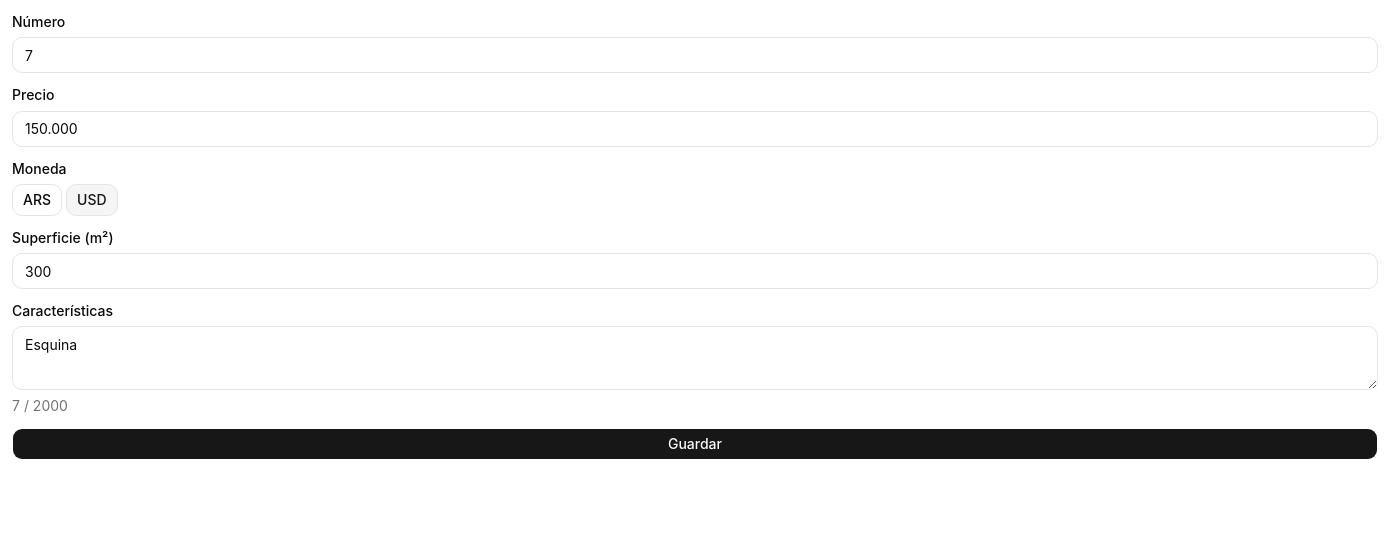
LoteEditForm › loads the lote and saves the typed values
expect the field labelled "Precio" holds "150.000": met, box [12,110,1378,146]
expect the field labelled "Superficie (m²)" holds "300": met, box [12,253,1378,289]
Replace the text in the field labelled "Número" with "12" at (695, 55), box [12,37,1378,73]
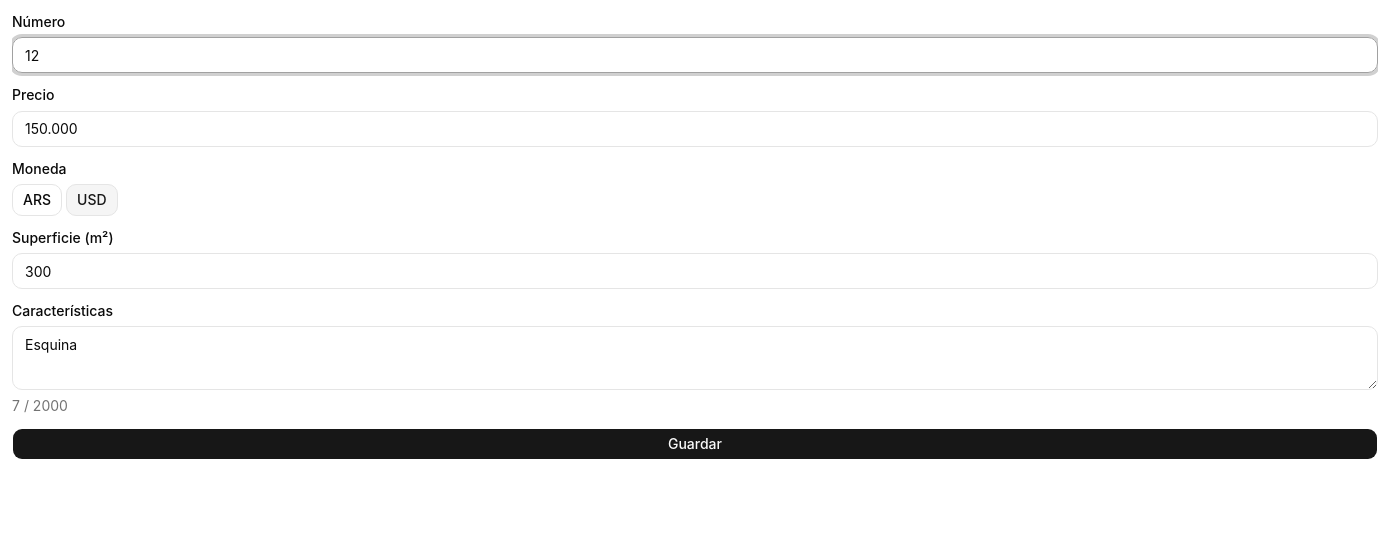
Replace the text in the field labelled "Precio" with "200000" at (695, 128), box [12,110,1378,146]
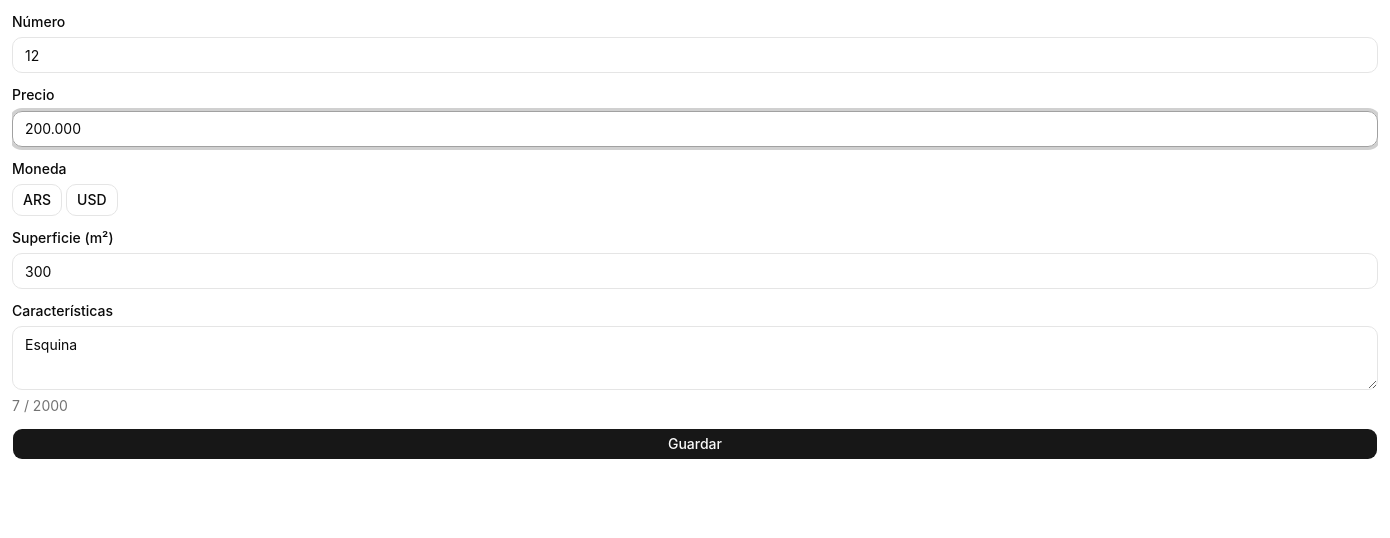
expect the field labelled "Precio" holds "200.000": met, box [12,110,1378,146]
Click the button "ARS" at (37, 200), box [12,184,62,216]
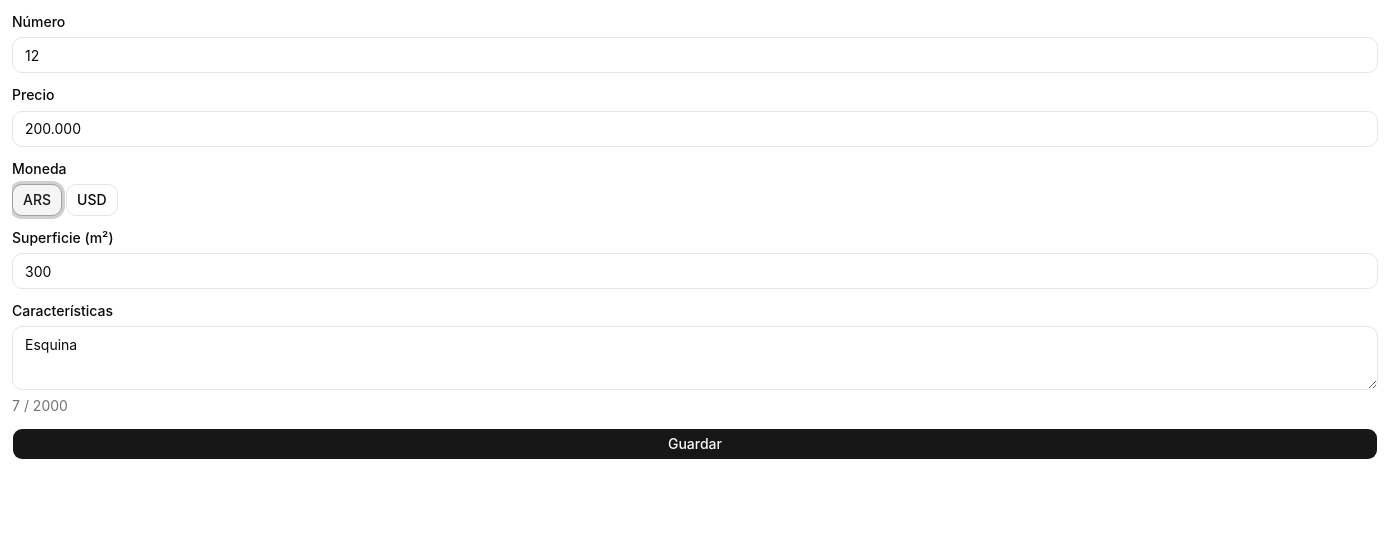
Replace the text in the field labelled "Superficie (m²)" with "310.5" at (695, 271), box [12,253,1378,289]
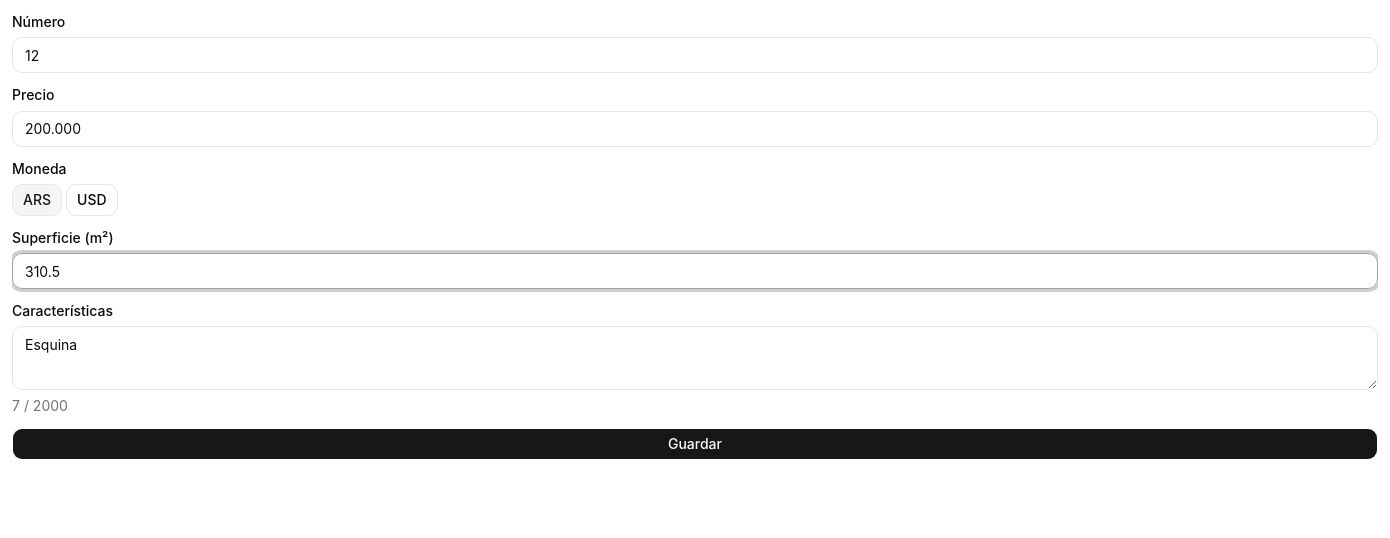
Replace the text in the text box labelled "Características" with "Frente norte" at (695, 358), box [12,326,1378,390]
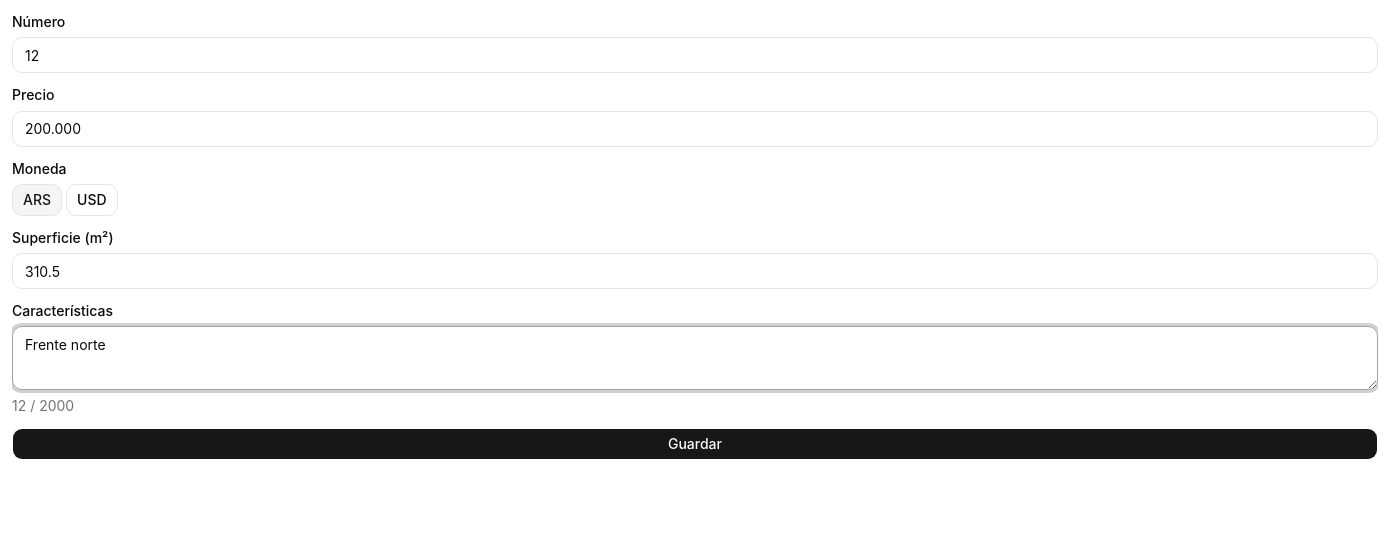
Click the button "Guardar" at (695, 444), box [12,428,1378,460]
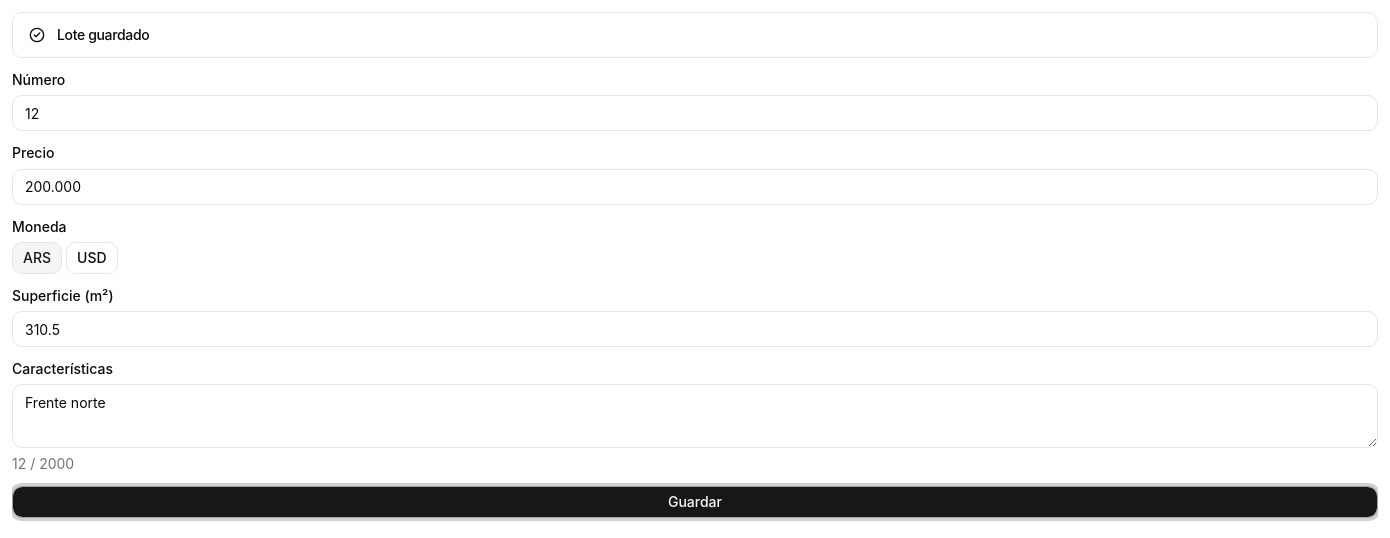
expect the message reads "Lote guardado": met, box [57,26,149,43]
